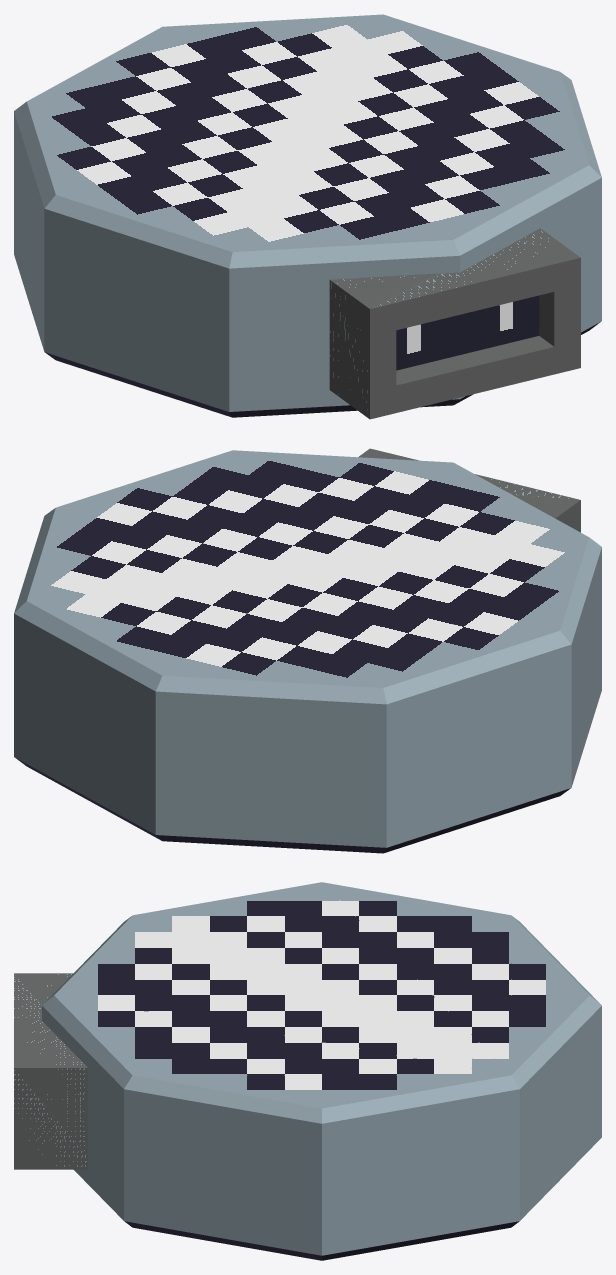
The model's file is Imuri.fbx.
The picture shows the model from 3 angles, top to bottom: view 1: azimuth 30°, elevation 25°; view 2: azimuth 150°, elevation 25°; view 3: azimuth 270°, elevation 25°; orthographic projection. The views are drawn at different scales.
Visible parts, largest first — view 1: Cube; view 2: Cube; view 3: Cube.
Boxes of the visible parts, x1,y1,x2,y2 form: Cube: (14, 14, 601, 419); Cube: (14, 448, 601, 853); Cube: (14, 882, 601, 1260).
Bounding box in the file's own units: 200 × 60 × 210.
